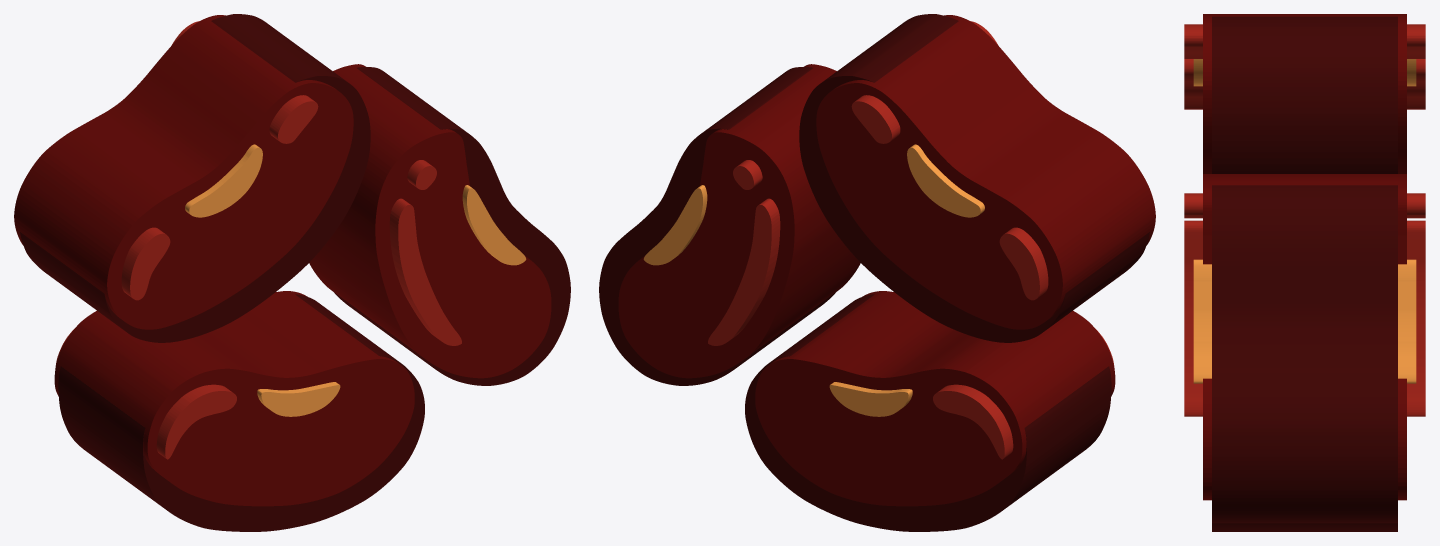
Rendered from U+1FAD8.obj.
3 views of the same model, side by side, from view 1: azimuth 30°, elevation 25°; view 2: azimuth 150°, elevation 25°; view 3: azimuth 270°, elevation 25° (orthographic). The views are drawn at different scales.
Visible parts, largest first — view 1: U+1FAD8_layer01_obj00, U+1FAD8_layer01_obj02, U+1FAD8_layer01_obj01, U+1FAD8_layer00_obj02, U+1FAD8_layer00_obj00, U+1FAD8_layer00_obj01, U+1FAD8_layer03_obj01, U+1FAD8_layer03_obj02, U+1FAD8_layer02_obj02, U+1FAD8_layer03_obj03, U+1FAD8_layer02_obj01, U+1FAD8_layer02_obj00 (+2 smaller); view 2: U+1FAD8_layer01_obj00, U+1FAD8_layer01_obj02, U+1FAD8_layer01_obj01, U+1FAD8_layer00_obj02, U+1FAD8_layer00_obj00, U+1FAD8_layer00_obj01, U+1FAD8_layer03_obj01, U+1FAD8_layer03_obj02, U+1FAD8_layer02_obj02, U+1FAD8_layer03_obj03, U+1FAD8_layer02_obj01, U+1FAD8_layer02_obj00 (+2 smaller); view 3: U+1FAD8_layer00_obj01, U+1FAD8_layer00_obj00, U+1FAD8_layer01_obj01, U+1FAD8_layer03_obj01, U+1FAD8_layer02_obj01, U+1FAD8_layer01_obj00, U+1FAD8_layer00_obj02, U+1FAD8_layer03_obj03, U+1FAD8_layer03_obj00, U+1FAD8_layer03_obj04, U+1FAD8_layer02_obj02.
Part boxes in pixels (x1,y1,x2,y2): U+1FAD8_layer01_obj00: (14,15,353,329); U+1FAD8_layer01_obj02: (54,291,414,506); U+1FAD8_layer01_obj01: (309,64,551,378); U+1FAD8_layer00_obj02: (58,294,424,531); U+1FAD8_layer00_obj00: (20,14,370,342); U+1FAD8_layer00_obj01: (333,67,570,385); U+1FAD8_layer03_obj01: (389,198,461,345); U+1FAD8_layer03_obj02: (55,329,236,459); U+1FAD8_layer02_obj02: (185,144,262,217); U+1FAD8_layer03_obj03: (121,227,170,300); U+1FAD8_layer02_obj01: (462,185,526,265); U+1FAD8_layer02_obj00: (257,382,340,416); U+1FAD8_layer01_obj00: (816,15,1155,329); U+1FAD8_layer01_obj02: (755,291,1115,506); U+1FAD8_layer01_obj01: (618,64,860,378); U+1FAD8_layer00_obj02: (745,294,1111,531); U+1FAD8_layer00_obj00: (799,14,1149,342); U+1FAD8_layer00_obj01: (599,67,836,385); U+1FAD8_layer03_obj01: (708,198,780,345); U+1FAD8_layer03_obj02: (933,329,1114,459); U+1FAD8_layer02_obj02: (907,144,984,217); U+1FAD8_layer03_obj03: (999,227,1048,300); U+1FAD8_layer02_obj01: (643,185,707,265); U+1FAD8_layer02_obj00: (829,382,912,416); U+1FAD8_layer00_obj01: (1212,185,1397,523); U+1FAD8_layer00_obj00: (1212,16,1397,173); U+1FAD8_layer01_obj01: (1203,174,1406,500); U+1FAD8_layer03_obj01: (1184,220,1425,416); U+1FAD8_layer02_obj01: (1193,259,1416,383); U+1FAD8_layer01_obj00: (1203,14,1406,173); U+1FAD8_layer00_obj02: (1212,523,1397,531); U+1FAD8_layer03_obj03: (1184,59,1425,109); U+1FAD8_layer03_obj00: (1184,24,1425,58); U+1FAD8_layer03_obj04: (1184,193,1425,218); U+1FAD8_layer02_obj02: (1193,59,1416,86).
Bounding box in the file's own units: 0.3197 × 0.2914 × 0.13.
